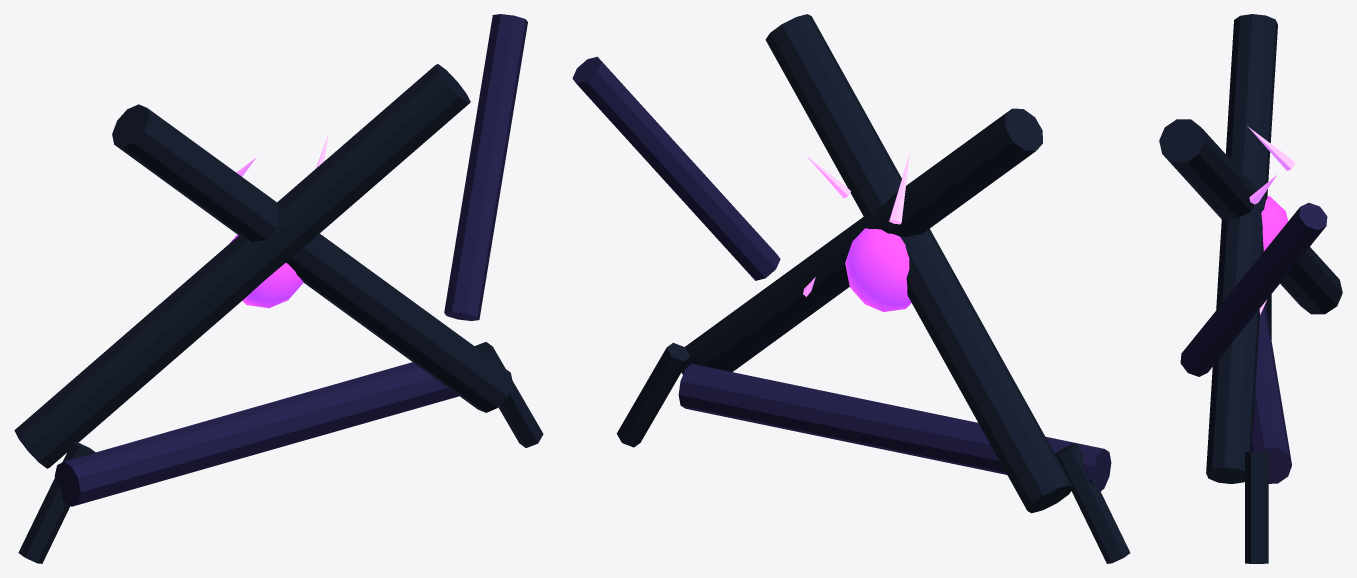
Rendered from sello_raices.glb.
3 renders of one model, left to right at view 1: azimuth 30°, elevation 25°; view 2: azimuth 150°, elevation 25°; view 3: azimuth 270°, elevation 25°, orthographic. The views are drawn at different scales.
Parts seen in each view (by area): view 1: Cylinder, Cylinder.001, Cylinder.002, Cylinder.003, Cylinder.004, Cylinder.005, Icosphere; view 2: Cylinder, Cylinder.001, Cylinder.002, Cylinder.003, Icosphere, Cylinder.004, Cylinder.005; view 3: Cylinder.001, Cylinder, Cylinder.003, Cylinder.002, Cylinder.005, Icosphere, Cone.002.
Boxes of the visible parts, x1,y1,x2,y2 form: Cylinder: (14,64,470,468); Cylinder.001: (112,104,512,412); Cylinder.002: (54,362,458,506); Cylinder.003: (444,14,527,320); Cylinder.004: (18,441,95,563); Cylinder.005: (474,342,543,447); Icosphere: (230,234,303,307); Cylinder: (765,14,1073,513); Cylinder.001: (681,108,1042,374); Cylinder.002: (678,364,1111,491); Cylinder.003: (572,56,780,280); Icosphere: (845,228,911,311); Cylinder.004: (1055,443,1130,563); Cylinder.005: (616,342,690,447); Cylinder.001: (1206,14,1277,483); Cylinder: (1159,119,1342,314); Cylinder.003: (1180,202,1327,376); Cylinder.002: (1251,304,1291,483); Cylinder.005: (1245,451,1268,563); Icosphere: (1261,196,1288,251); Cone.002: (1247,126,1294,170).
Bounding box in the file's own units: 3.69 × 2.9 × 1.24.
